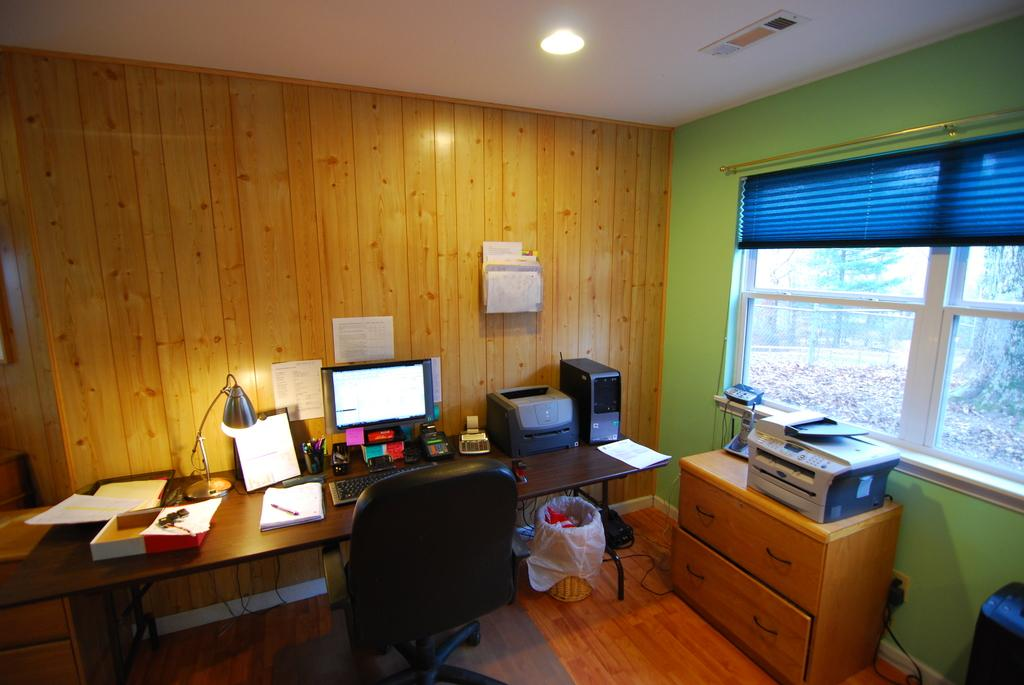cabinet_door: (674, 536, 806, 655), (690, 474, 828, 574), (2, 644, 72, 685), (0, 605, 89, 627)
handle: (750, 616, 784, 645), (765, 540, 792, 570), (680, 560, 706, 589), (696, 505, 722, 527)
